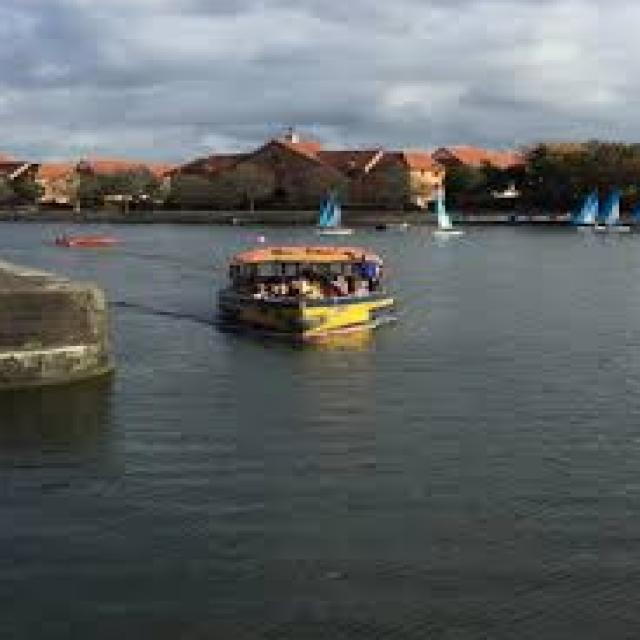passenger ship: (201, 228, 404, 344)
sailboat: (414, 163, 471, 249), (550, 169, 606, 235), (305, 188, 353, 239), (593, 178, 630, 226), (633, 164, 640, 239)
